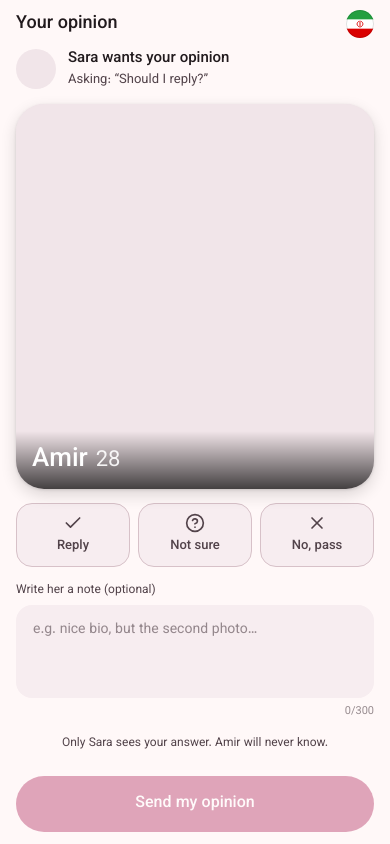
Test: language flag on the friend-side ask screens › a member's choice is saved to her account
Expected: the button "Send my opinion" is shown, [16, 776, 374, 832]
Click the button with test id "ask-lang-toggle": (360, 24) [338, 2, 382, 46]
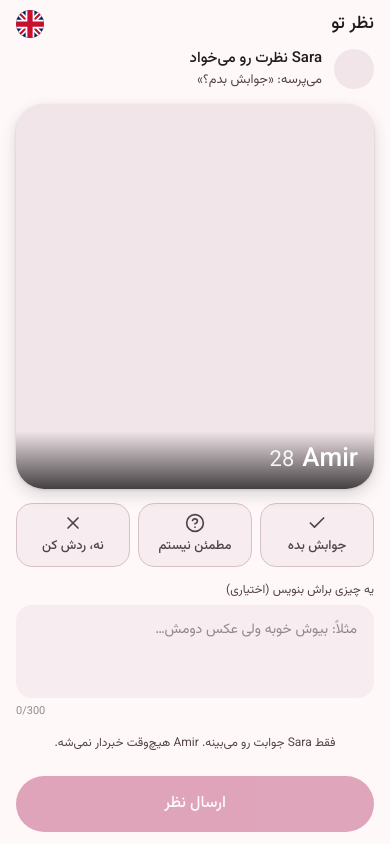
Expected: the button "ارسال نظر" is shown, [16, 776, 374, 832]
